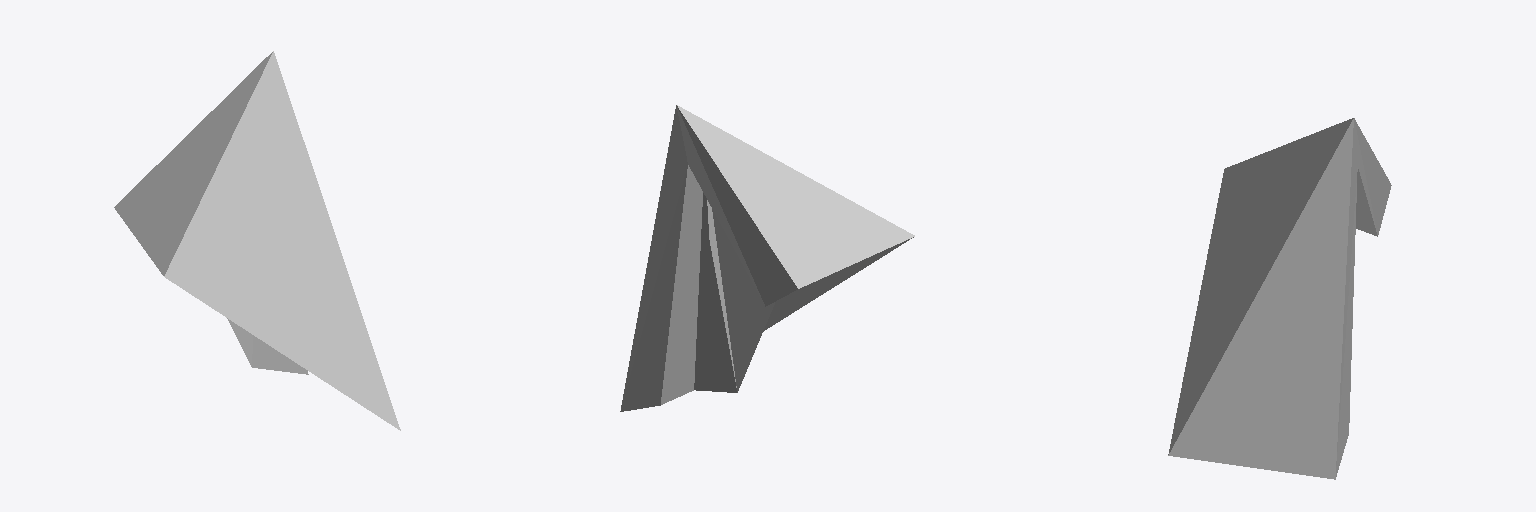
The model's file is Right Cat Ear.obj.
The picture shows the model from 3 angles: view 1: azimuth 30°, elevation 25°; view 2: azimuth 150°, elevation 25°; view 3: azimuth 270°, elevation 25°; orthographic projection.
Visible parts, largest first — view 1: Right Cat Ear; view 2: Right Cat Ear; view 3: Right Cat Ear.
Boxes of the visible parts, box(x1,y1,x2,y2) form: Right Cat Ear: box(114, 51, 400, 430); Right Cat Ear: box(620, 105, 914, 411); Right Cat Ear: box(1168, 118, 1391, 479).
Bounding box in the file's own units: 0.2818 × 0.3707 × 0.2275.